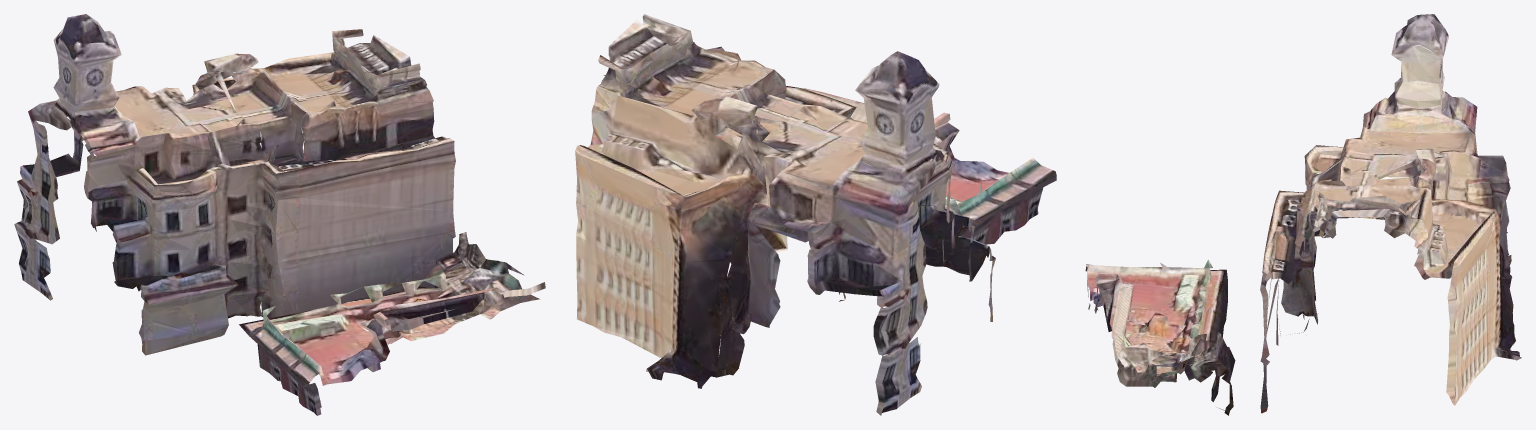
3 renders of one model, left to right at view 1: azimuth 30°, elevation 25°; view 2: azimuth 150°, elevation 25°; view 3: azimuth 270°, elevation 25°, orthographic. The views are drawn at different scales.
Visible parts, largest first — view 1: Mesh_0; view 2: Mesh_0; view 3: Mesh_0.
Part boxes in pixels (<box>): Mesh_0: <box>14,14,545,415</box>; Mesh_0: <box>575,14,1056,415</box>; Mesh_0: <box>1085,14,1521,415</box>.
Size of the model in its own units: 33.17 by 27.78 by 40.16.
2 materials, 2 textured.
